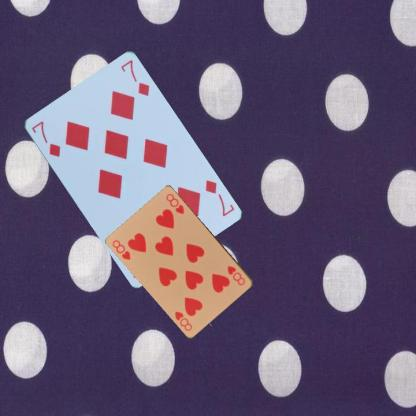7d: (202, 177, 235, 218), (29, 118, 62, 158)
8h: (224, 263, 247, 286), (110, 238, 132, 261)
